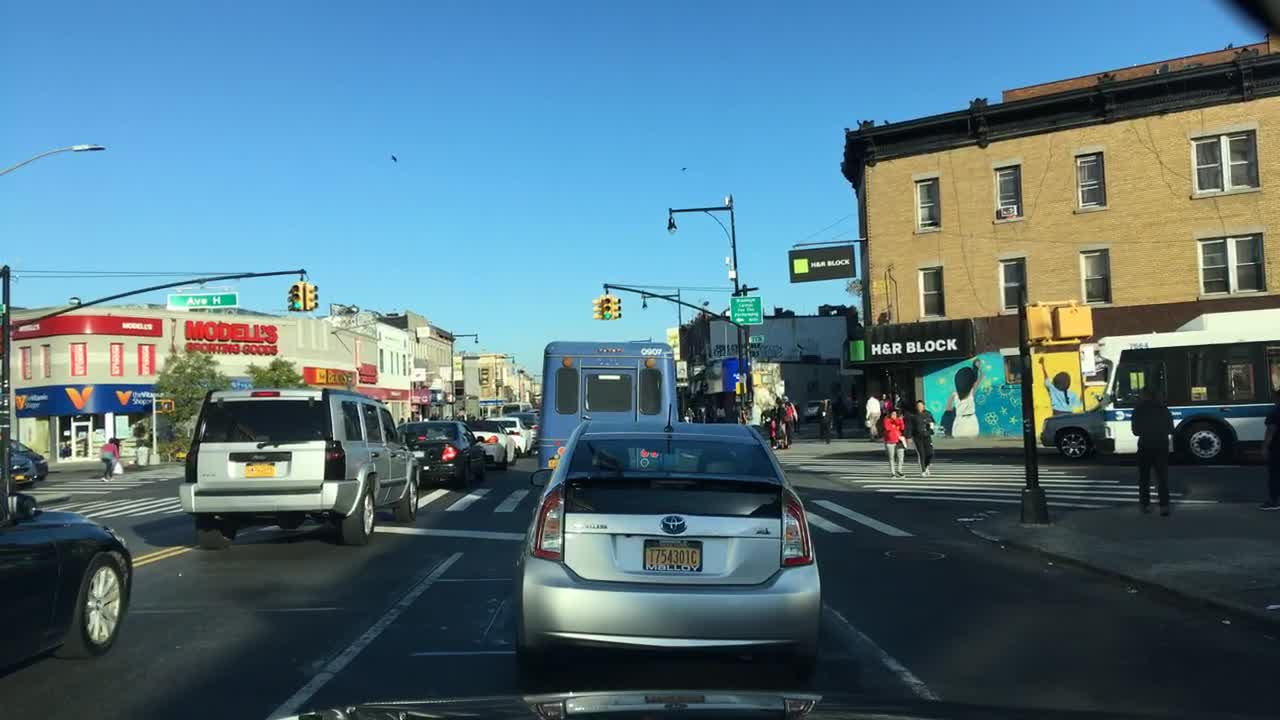bus: (1094, 304, 1277, 467)
car: (517, 401, 825, 688), (176, 383, 424, 553), (0, 487, 133, 674), (535, 338, 678, 476), (396, 418, 487, 491), (1038, 404, 1110, 462), (465, 419, 518, 470), (484, 415, 534, 458), (0, 438, 49, 479), (0, 447, 38, 489), (504, 411, 540, 453), (795, 395, 825, 426), (499, 400, 533, 415), (526, 406, 544, 426)
person: (1128, 382, 1178, 518), (1255, 391, 1277, 513), (909, 397, 937, 478), (880, 407, 907, 479), (98, 434, 126, 480), (862, 393, 882, 442), (773, 397, 789, 450), (815, 398, 832, 442), (831, 391, 846, 435), (781, 400, 794, 446), (780, 394, 798, 426), (767, 411, 778, 449), (877, 394, 892, 421), (891, 392, 903, 421), (684, 403, 696, 425), (715, 401, 727, 422), (403, 414, 413, 428), (397, 416, 405, 428)
traffic light: (1054, 301, 1094, 342), (1027, 304, 1054, 339), (303, 279, 318, 313), (289, 284, 303, 313), (607, 294, 622, 320), (590, 294, 602, 323), (284, 285, 296, 311), (600, 298, 612, 323), (159, 397, 176, 413)
traffic sign: (165, 289, 240, 312), (729, 294, 763, 326), (1077, 340, 1096, 376), (734, 379, 748, 398), (748, 331, 766, 345), (0, 302, 9, 316)
